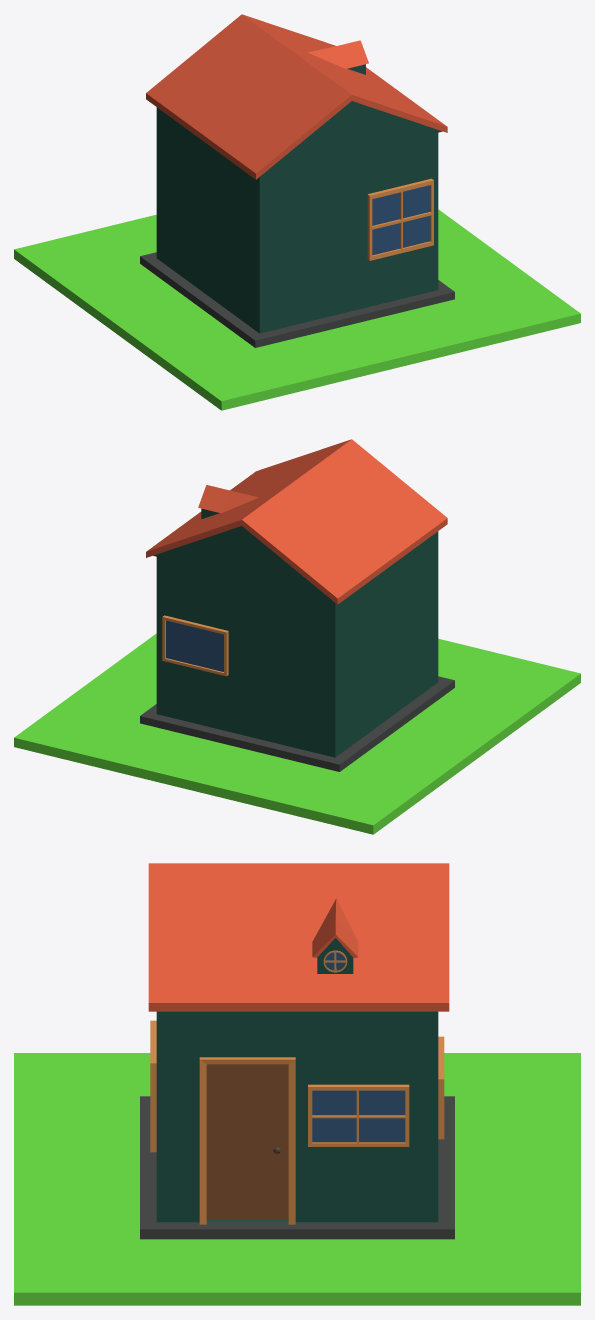
File: Building4.glb
3 renders of one model, top to bottom at view 1: azimuth 30°, elevation 25°; view 2: azimuth 150°, elevation 25°; view 3: azimuth 270°, elevation 25°, orthographic. The views are drawn at different scales.
Visible parts, largest first — view 1: Cube, Cube.003; view 2: Cube, Cube.003; view 3: Cube, Cube.003.
Boxes of the visible parts, x1,y1,x2,y2 form: Cube: (140, 14, 454, 347); Cube.003: (14, 209, 580, 410); Cube: (140, 439, 454, 771); Cube.003: (14, 633, 580, 834); Cube: (140, 863, 454, 1239); Cube.003: (14, 1053, 580, 1305).
Bounding box in the file's own units: 12 × 7.53 × 12.
